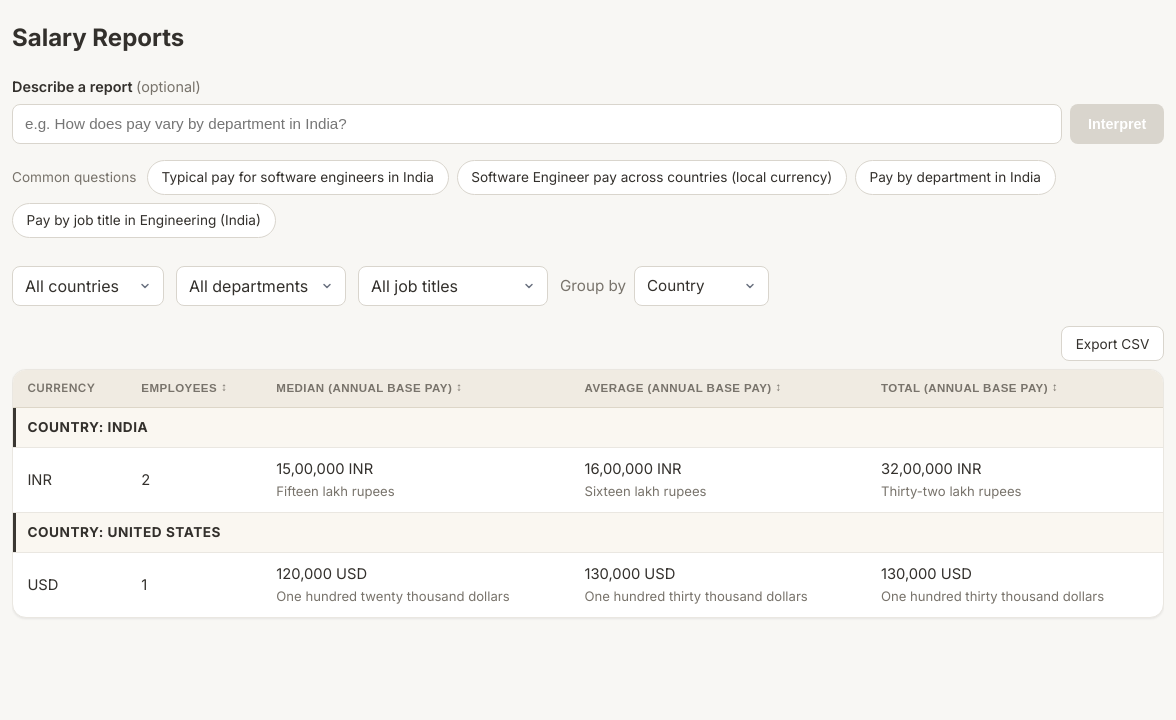
Test: ReportsPage › shows the report and updates results when a filter changes
Expected: the text "15,00,000 INR" is shown, [276,460,373,478]
Expected: the text "120,000 USD" is shown, [276,565,367,583]
Select "India" in the dropdown named "Country". click: (88, 286)
box: [12,266,164,306]
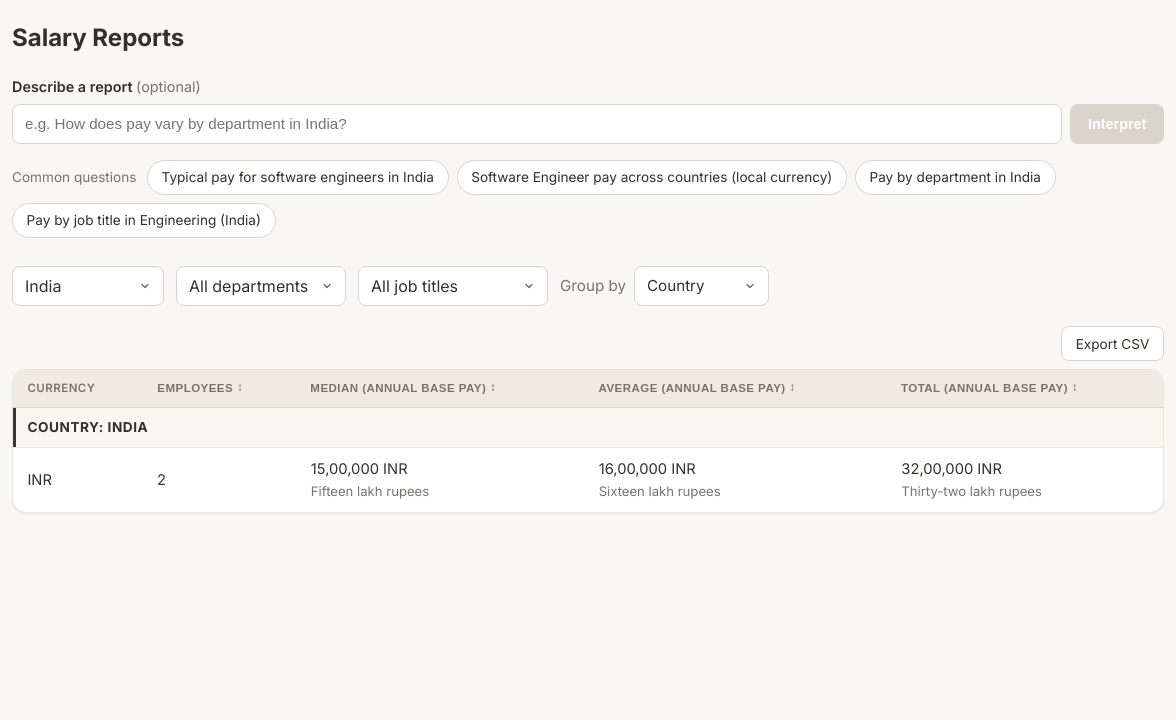
Expected: the text "15,00,000 INR" is shown, [311,460,408,478]
Result: the text "120,000 USD" is gone
